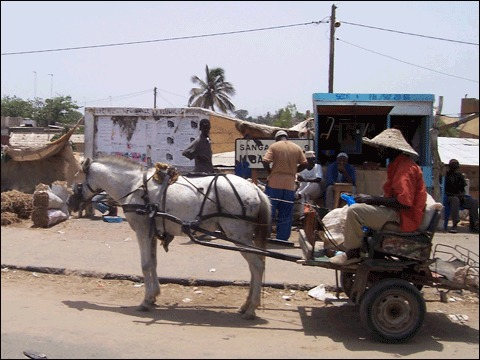horse: (68, 154, 272, 321)
